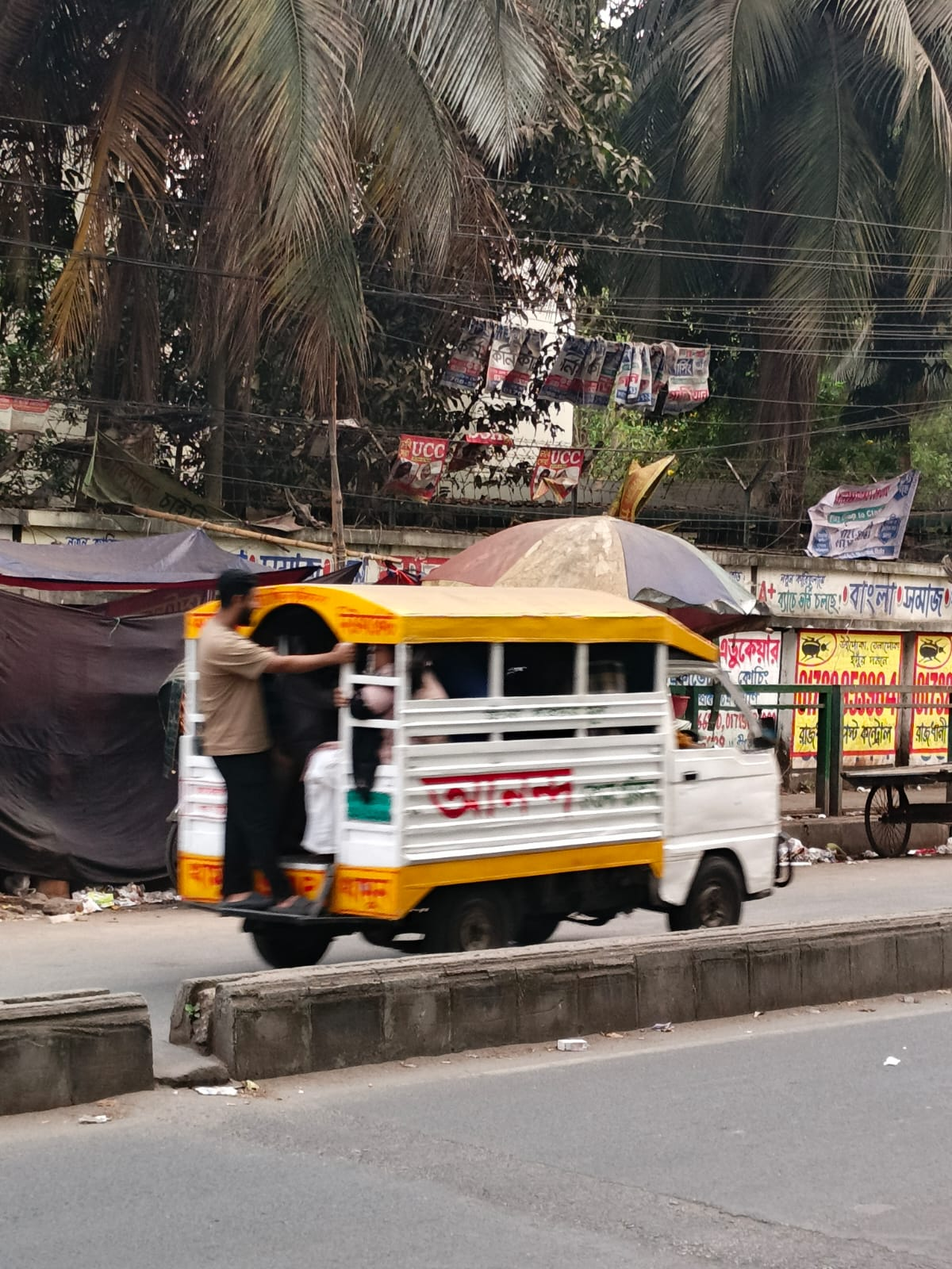Leguna: (127, 461, 918, 1071)
